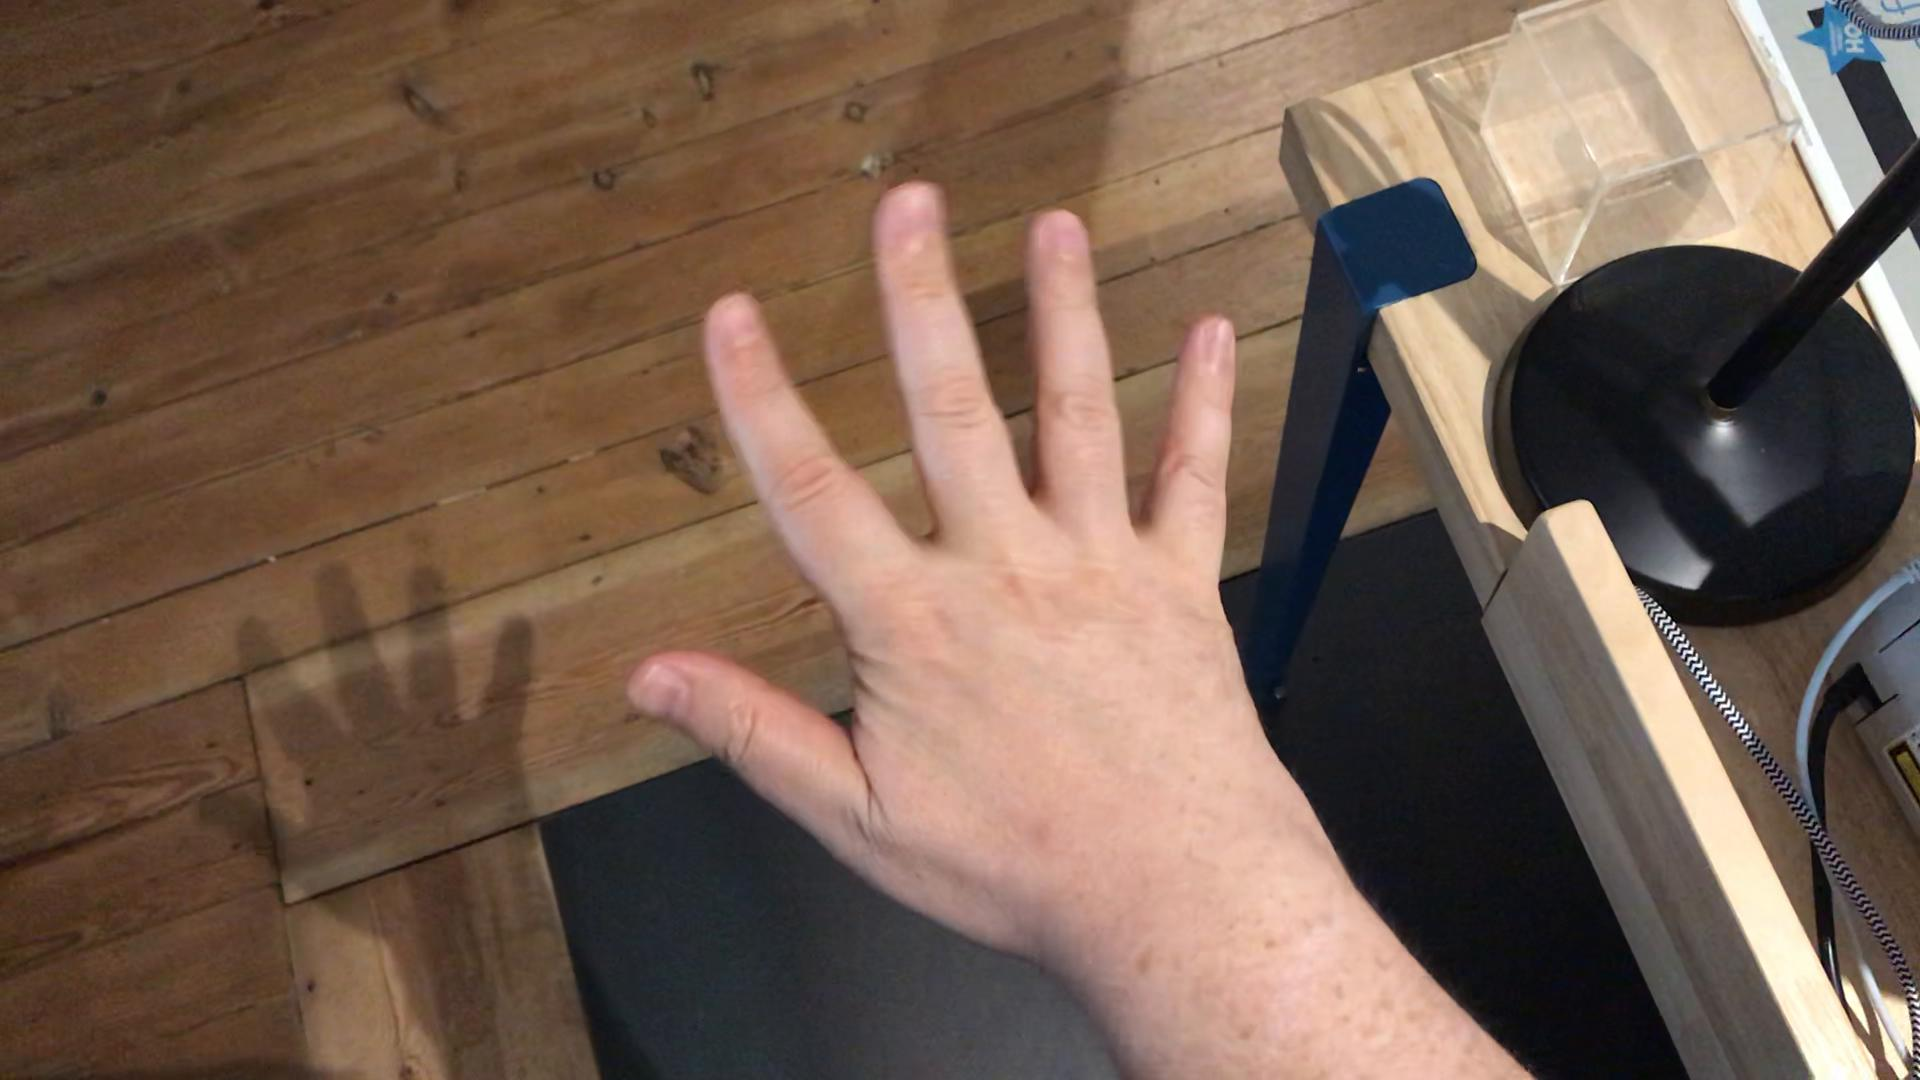hand: (621, 173, 1253, 931)
